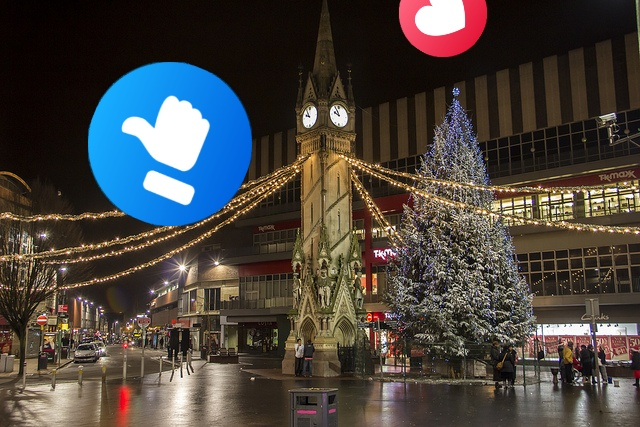like: (88, 62, 252, 226)
love: (399, 0, 487, 57)
